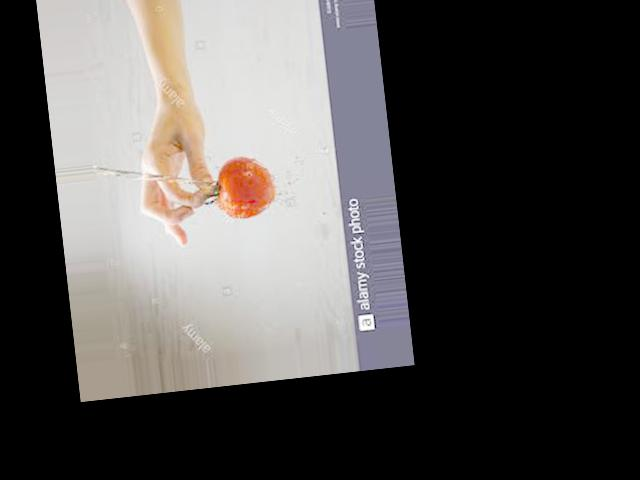tomato: (213, 151, 279, 219)
